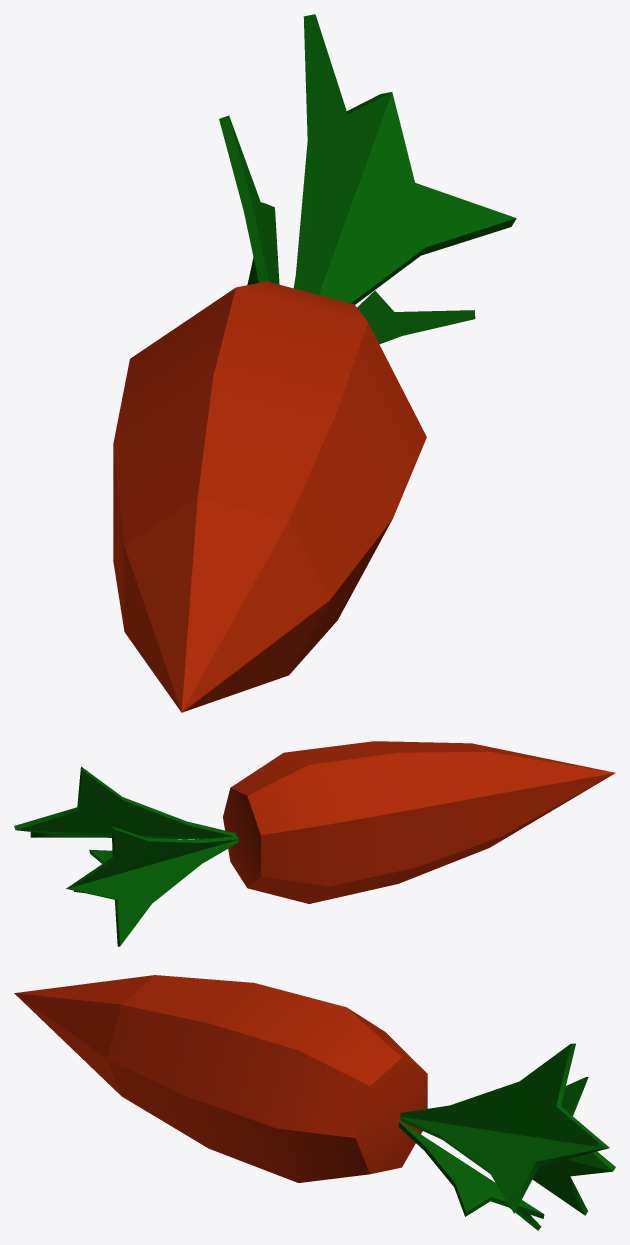
Rendered from Carrot.FBX.
3 views of the same model, one above another, from view 1: azimuth 30°, elevation 25°; view 2: azimuth 150°, elevation 25°; view 3: azimuth 270°, elevation 25° (orthographic). The views are drawn at different scales.
Visible parts, largest first — view 1: Carrot; view 2: Carrot; view 3: Carrot.
Part boxes in pixels (bbox=[...]): Carrot: bbox=[113, 14, 516, 712]; Carrot: bbox=[14, 741, 615, 946]; Carrot: bbox=[14, 975, 615, 1230].
Size of what is drawn, in the model's own units: 4.91 by 5.71 by 2.17.
